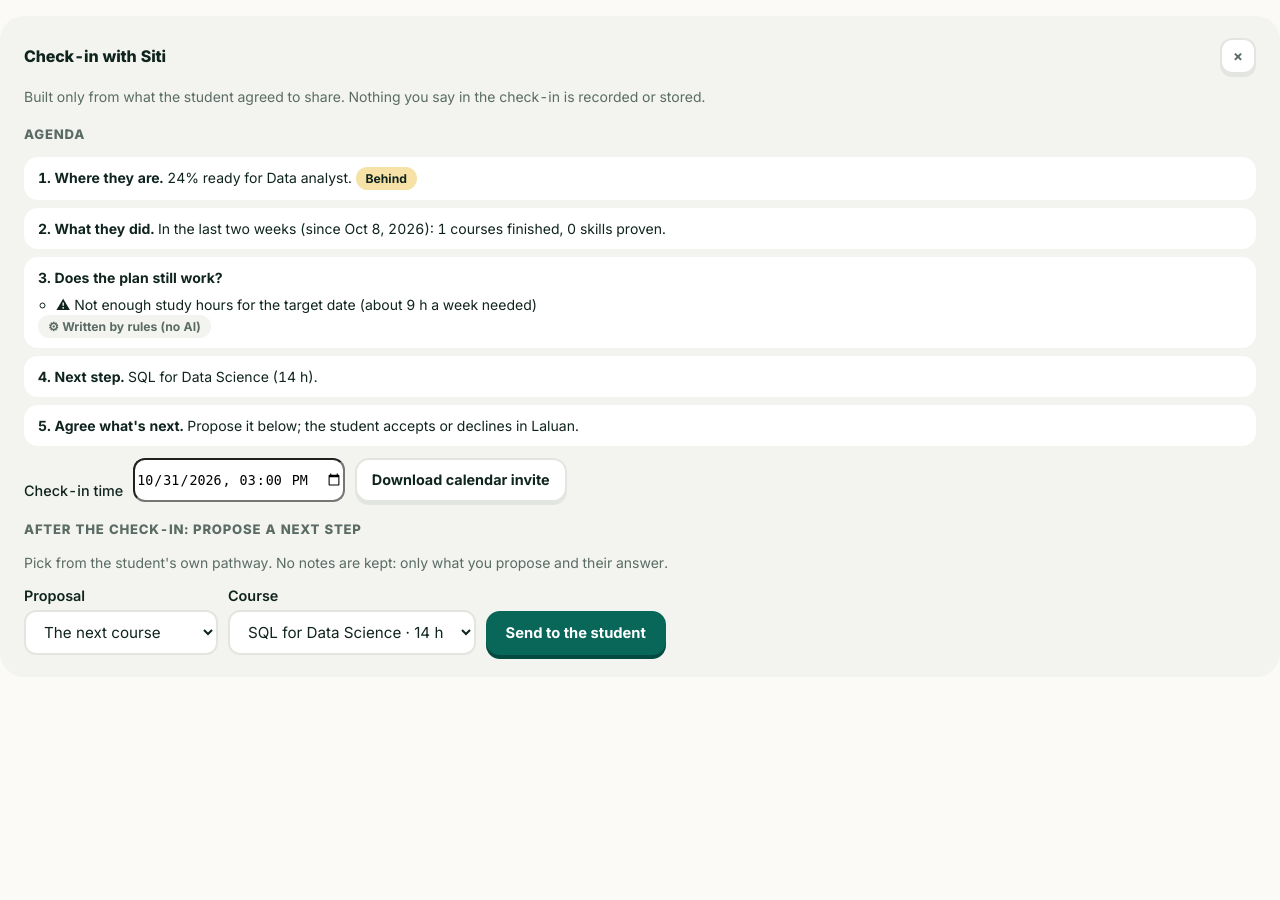
it: Counsellor proposals and plan checks › builds a check-in agenda and sends a proposal from the student's own pathway
Expected: the heading "Check-in with Siti" is shown, [24,46,166,66]
Expected: the list item "Not enough study hours" is shown, [74,296,356,313]
Click the button "Send to the student": (576, 633) [486,611,666,655]
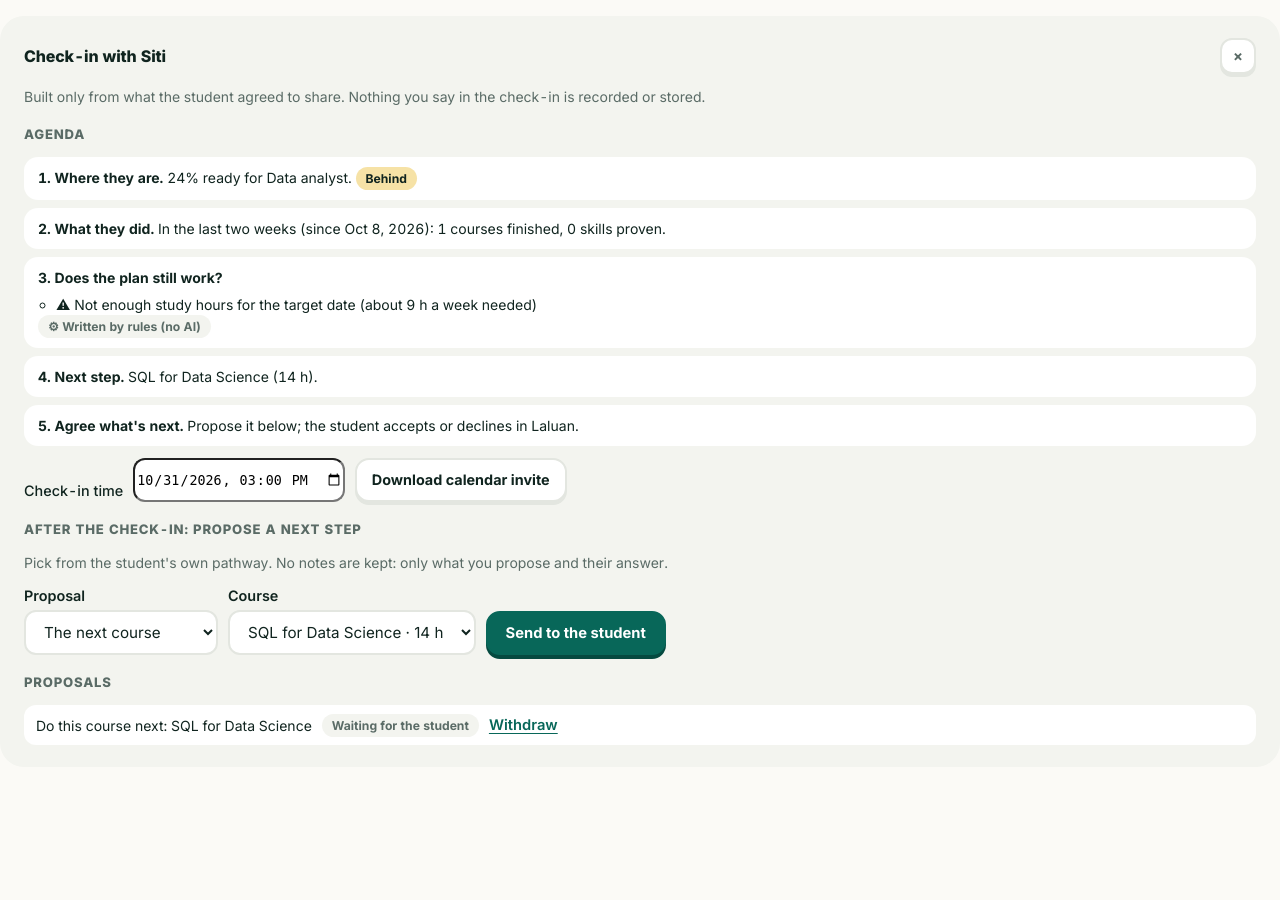
Now the text "Do this course next: SQL for Data Science" is shown, box [36,715,312,736]
